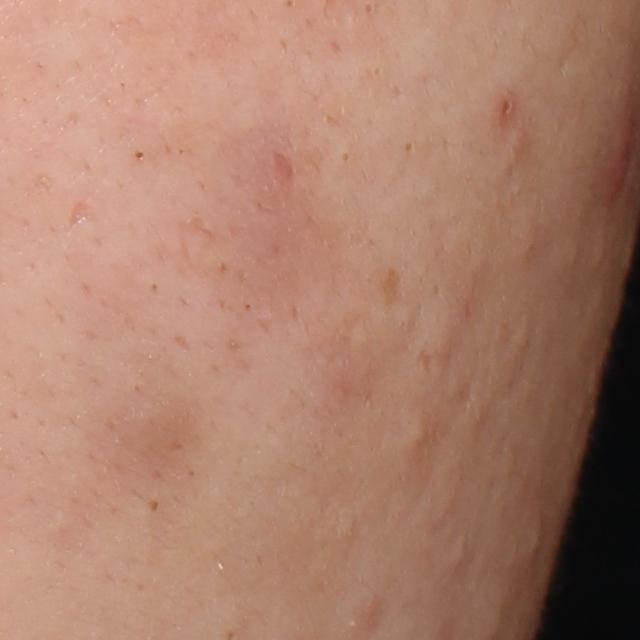atrophic_scar: (68, 200, 102, 232), (269, 147, 297, 185)
comedo: (399, 407, 434, 452), (447, 540, 472, 573), (141, 495, 167, 522)
papule: (600, 114, 638, 198), (493, 92, 520, 120)
